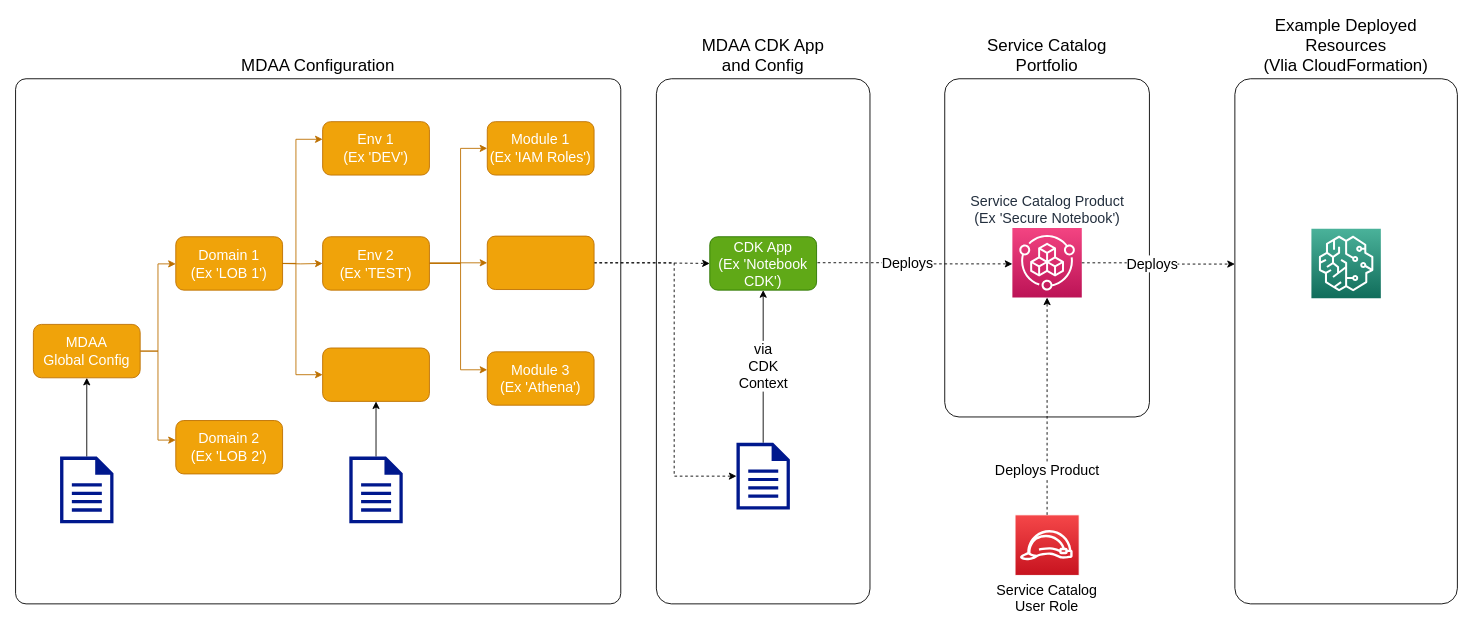
The diagram is 1473 pixels wide and 629 high, and some of its shapes have lost their labels. The centre of each missing label's shape, as x and y in pixels:
"Env 3 (Ex 'PROD')" goes at [375,374].
"Module 2 (Ex 'SageMaker Notebook')" goes at [540,262].
"Module Functional Configuration" goes at [762,475].
"Naming Configuration" goes at [86,489].
"SageMaker Notebook" goes at [1346,263].
"Target Account Configuration" goes at [375,489].
